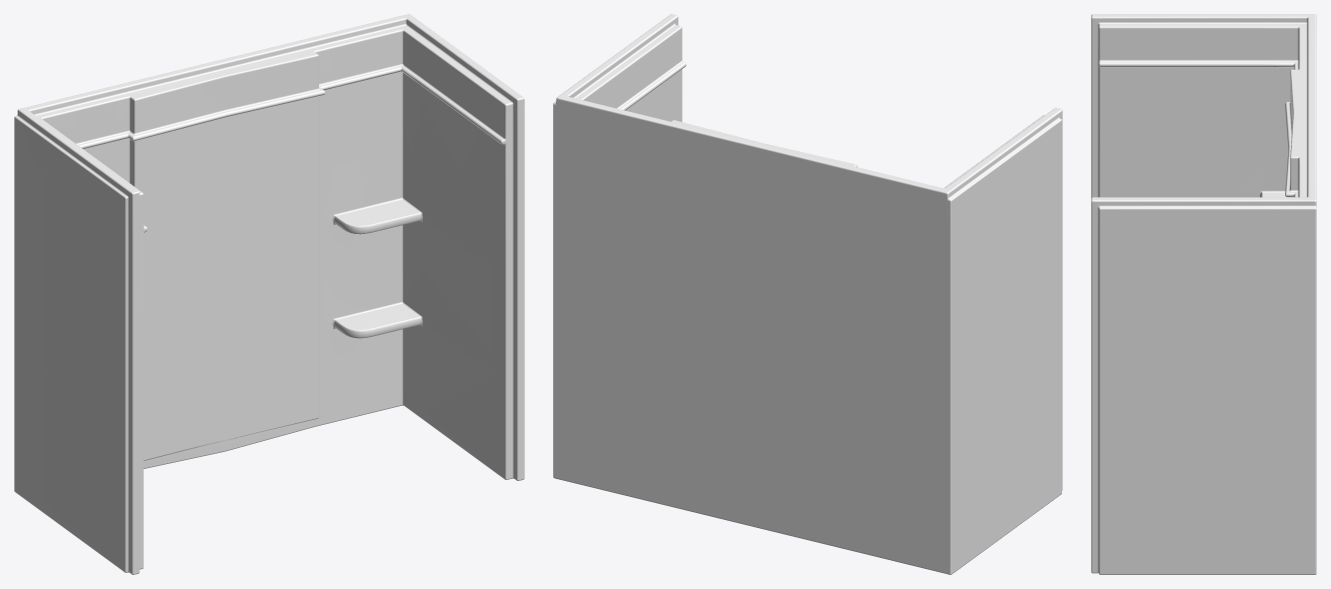
File: sterling-ensemble.glb
3 renders of one model, left to right at view 1: azimuth 30°, elevation 25°; view 2: azimuth 150°, elevation 25°; view 3: azimuth 270°, elevation 25°, orthographic. The views are drawn at different scales.
Parts seen in each view (by area): view 1: 1000132905_1; view 2: 1000132905_1; view 3: 1000132905_1.
Boxes of the visible parts, box(x1,y1,x2,y2) form: 1000132905_1: box(14, 14, 524, 574); 1000132905_1: box(553, 14, 1062, 574); 1000132905_1: box(1091, 14, 1316, 574).
Size of the model in its own units: 1.53 by 1.4 by 0.765.
1 material, 1 textured.
